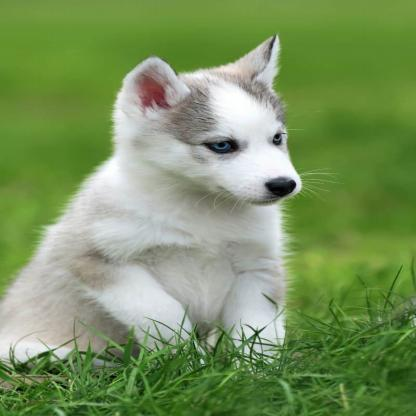dog: (0, 36, 303, 371)
